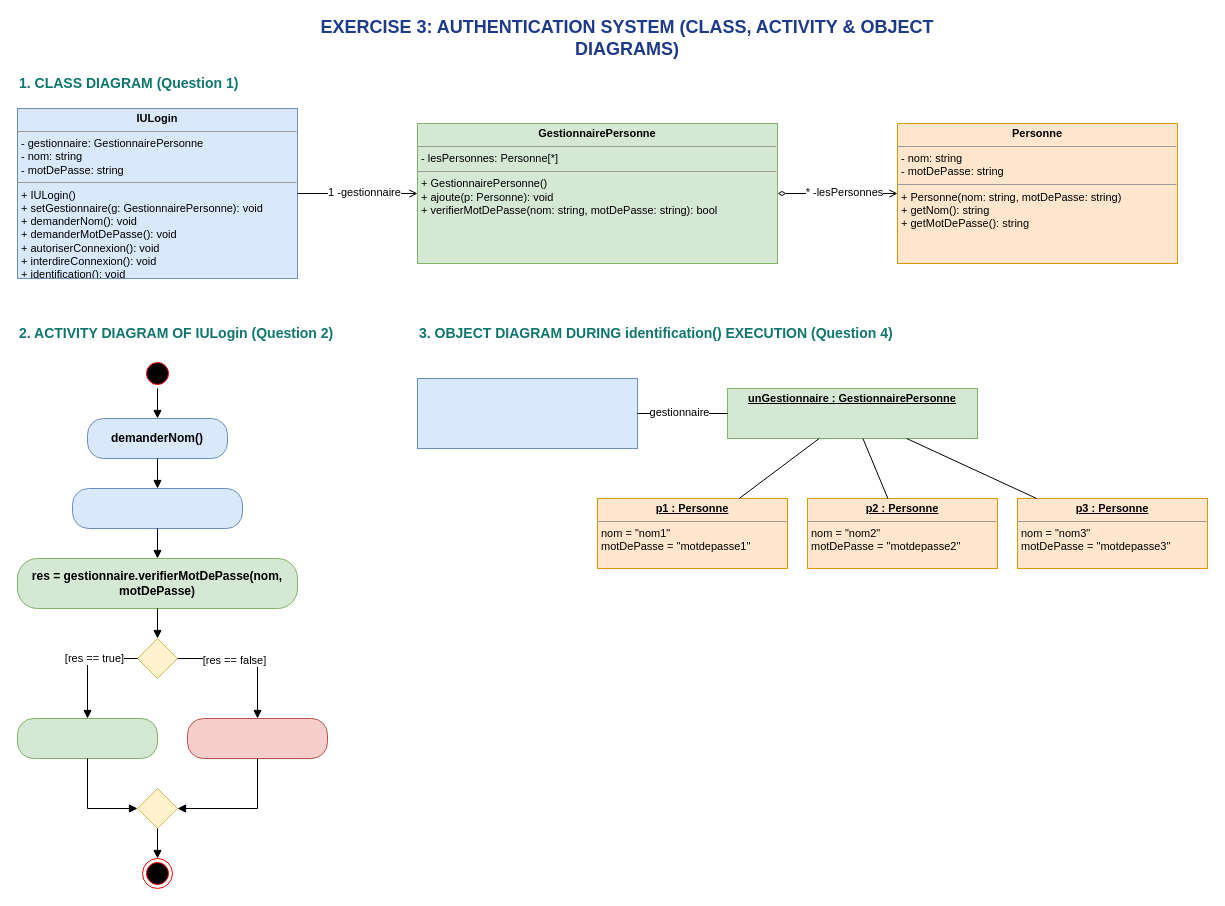
Image size: 1225x906. Some labels were removed from this diagram. Here are the shapes that lost their labels. From the top down, the box of each, then its label:
(416, 378, 638, 448): unIULogin : IULogin nom = "nom2" motDePasse = "motdepasse2"
(72, 488, 242, 528): demanderMotDePasse()
(16, 718, 158, 758): autoriserConnexion()
(186, 718, 328, 758): interdireConnexion()
